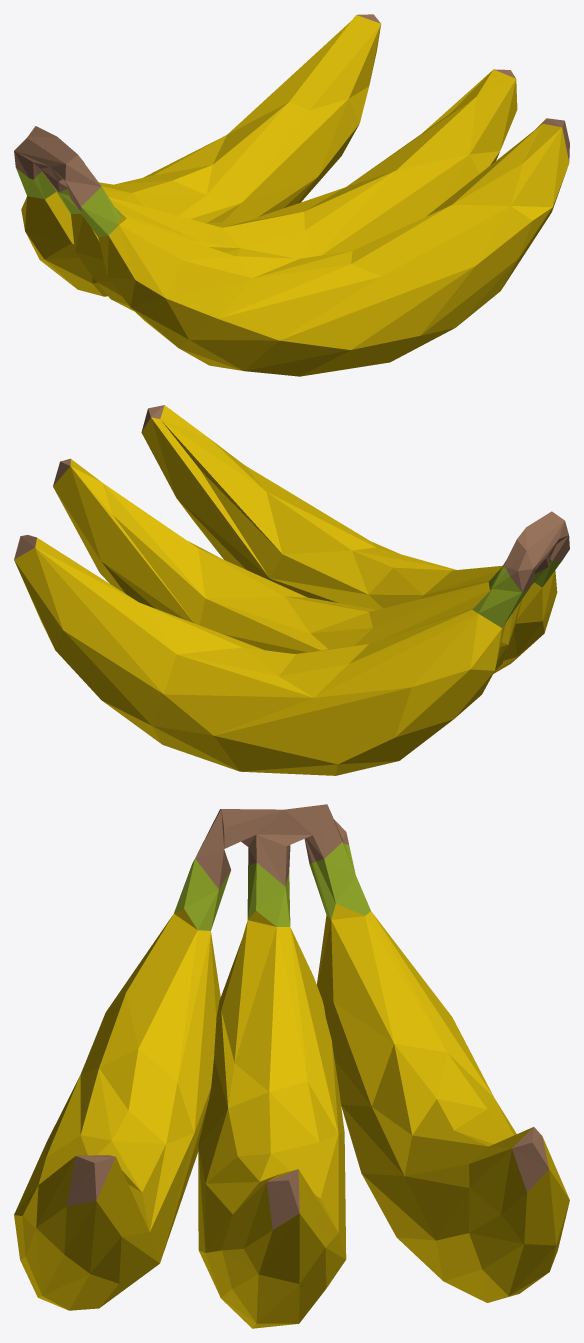
The model's file is Banana.glb.
3 views of the same model, one above another, from view 1: azimuth 30°, elevation 25°; view 2: azimuth 150°, elevation 25°; view 3: azimuth 270°, elevation 25° (orthographic). The views are drawn at different scales.
Visible parts, largest first — view 1: Low Poly Banana Triple; view 2: Low Poly Banana Triple; view 3: Low Poly Banana Triple.
Part boxes in pixels (x1,y1,x2,y2): Low Poly Banana Triple: (14, 14, 569, 376); Low Poly Banana Triple: (14, 405, 569, 775); Low Poly Banana Triple: (14, 804, 569, 1328).
Bounding box in the file's own units: 0.1299 × 0.0613 × 0.0935.
1 material, 1 textured.
